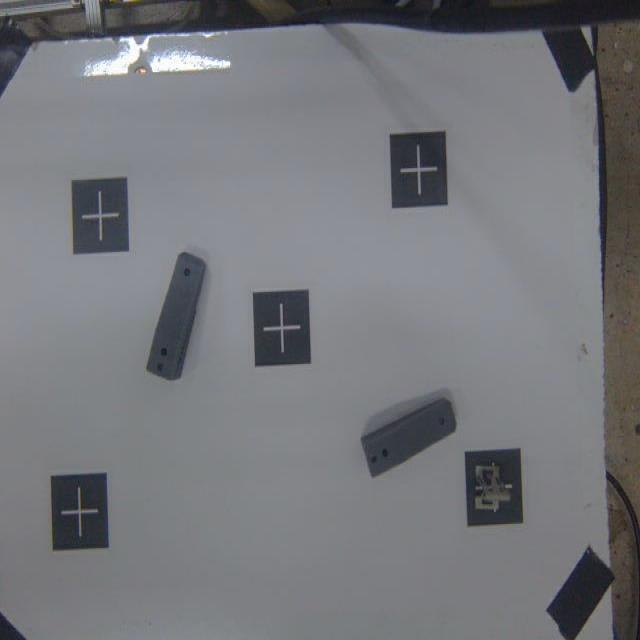pick5: (465, 450, 528, 524)
